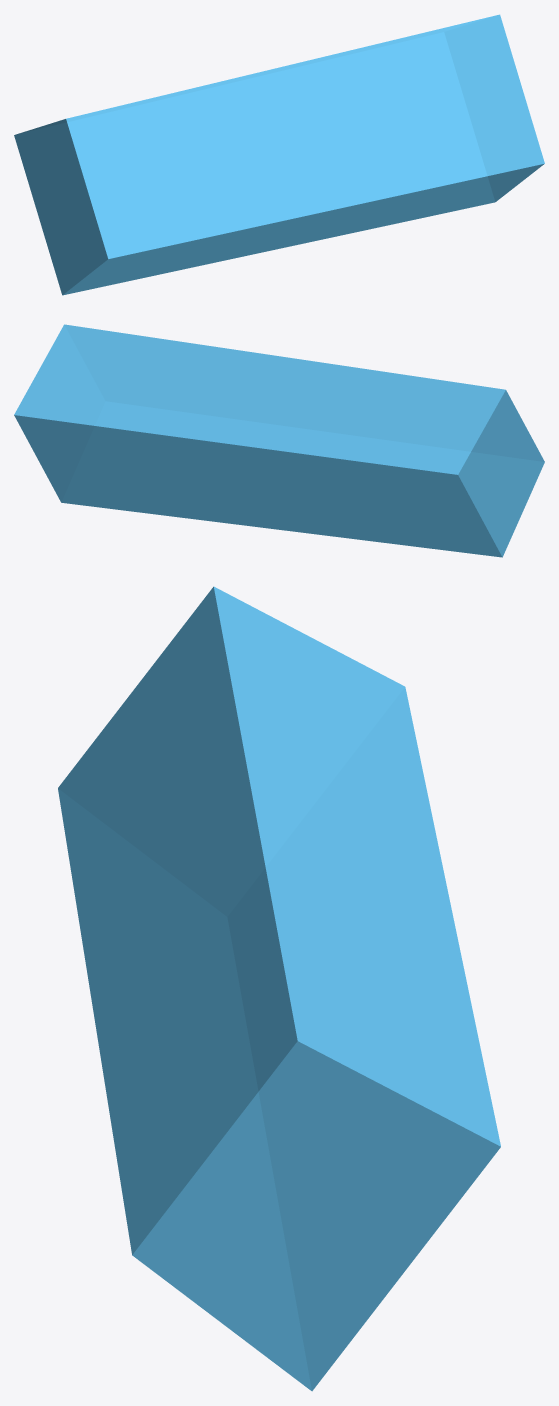
The model's file is Event_420604493_HErechit_45.fbx.
3 renders of one model, top to bottom at view 1: azimuth 30°, elevation 25°; view 2: azimuth 150°, elevation 25°; view 3: azimuth 270°, elevation 25°, orthographic. The views are drawn at different scales.
Parts seen in each view (by area): view 1: Model; view 2: Model; view 3: Model.
Part boxes in pixels (<box>): Model: <box>14,14,544,295</box>; Model: <box>14,324,544,557</box>; Model: <box>58,586,500,1391</box>.
Size of the model in its own units: 0.6619 by 0.2969 by 0.3019.
